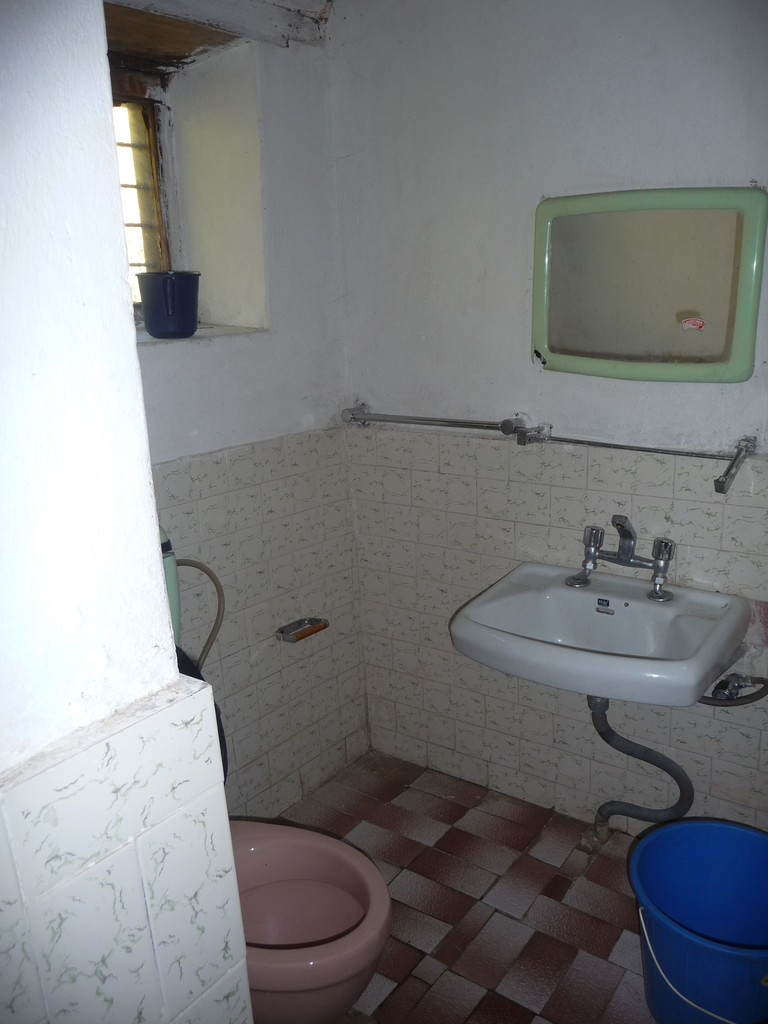tap: (575, 512, 679, 599)
